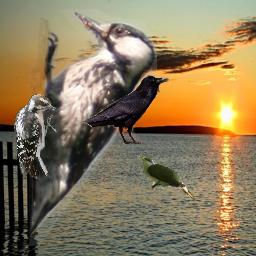Crow: (82, 73, 170, 144)
Cuckoo: (138, 156, 196, 200)
Woodpecker: (29, 9, 157, 246), (14, 94, 58, 180)
